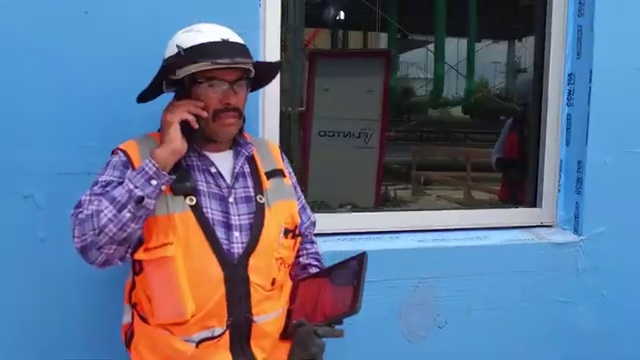helmet: (146, 20, 282, 85)
jacket: (104, 129, 323, 360)
